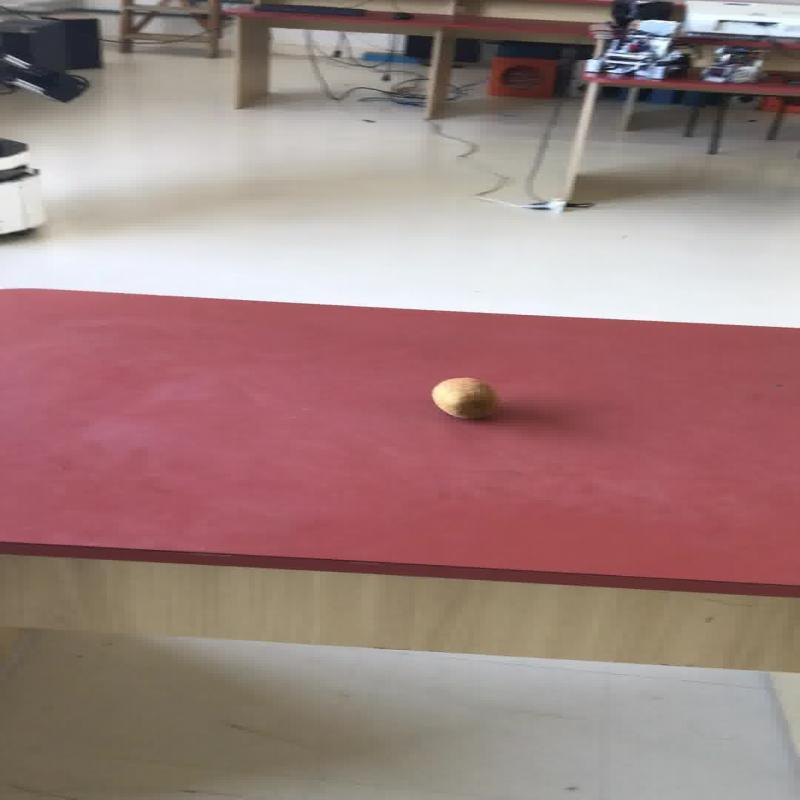kiwi: (429, 376, 497, 419)
